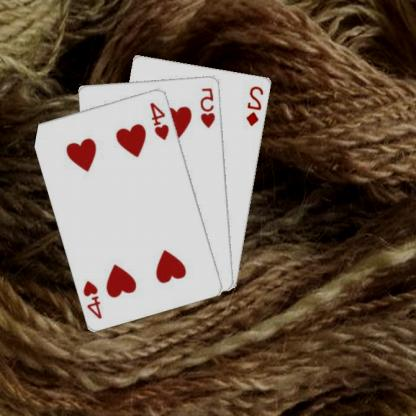2D: (245, 83, 267, 127)
4H: (82, 277, 106, 320), (149, 99, 173, 141)
5H: (200, 85, 218, 129)
